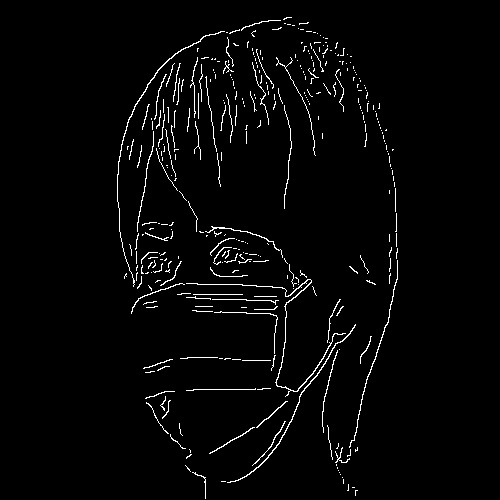mask: (128, 294, 302, 456)
